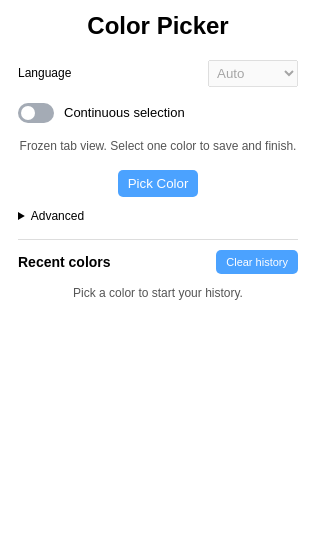
Test: popup interactions › reports clipboard failure and lets the user retry
Click the heading "Advanced": (57, 216) [31,209,84,223]
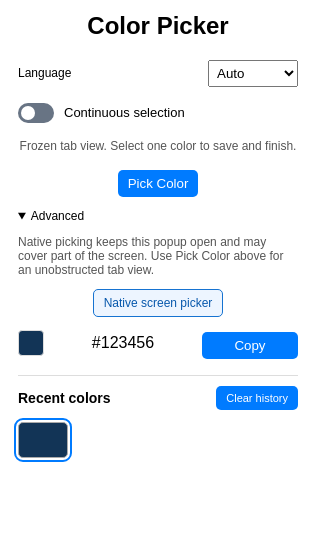
Expected: the text "#123456" is shown, [92,334,154,352]
Click the button "Copy": (250, 345) [202,332,298,359]
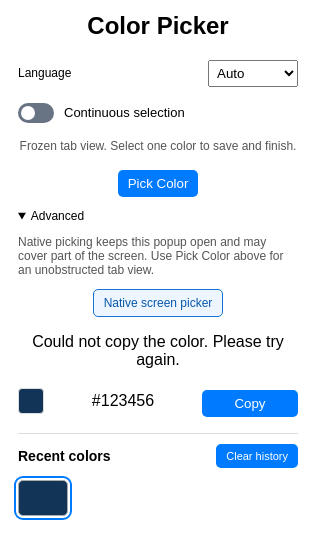
Expected: the button "Copy" is enabled
Expected: the message shows "Could not copy", [32,333,284,368]
Click the button "Copy": (250, 403) [202,390,298,417]
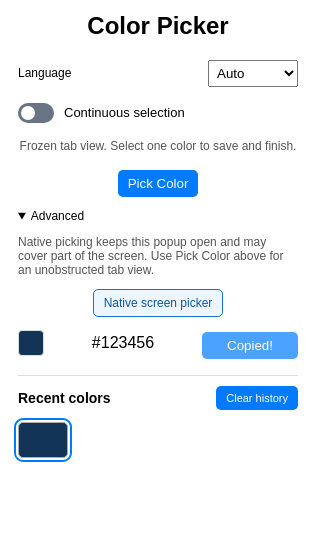
Expected: the button "Copied!" is shown, [202,332,298,359]
Expected: the message "Could not copy the color. Please try again." is gone
